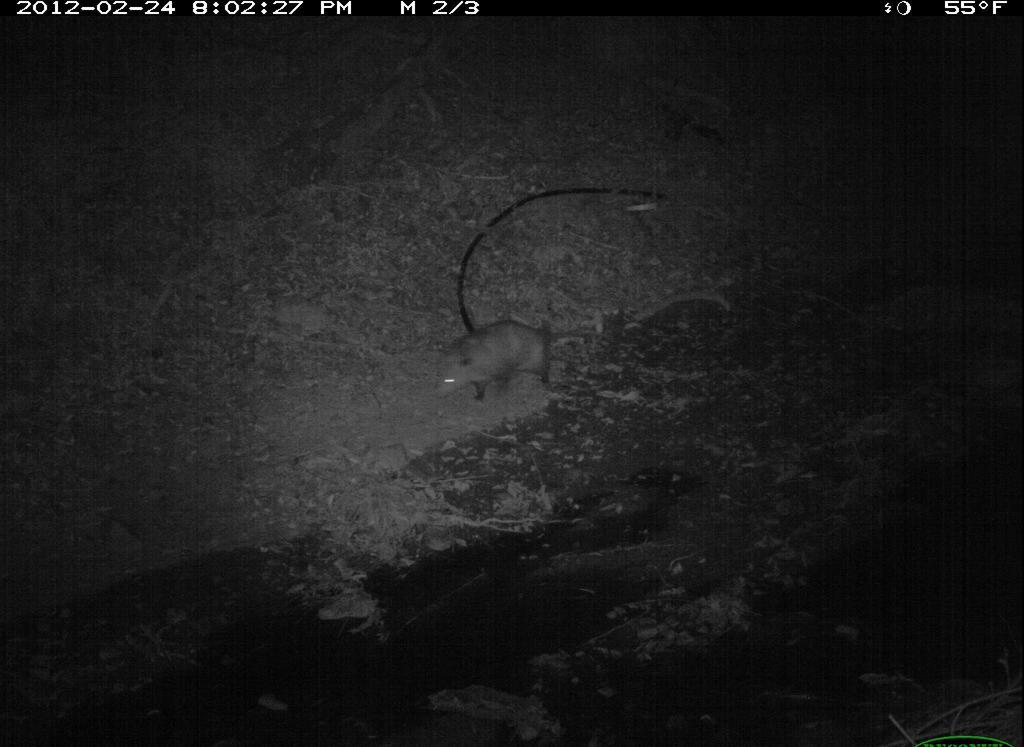opossum: (431, 319, 603, 405)
